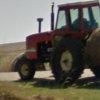Tractor: (15, 12, 100, 90)
